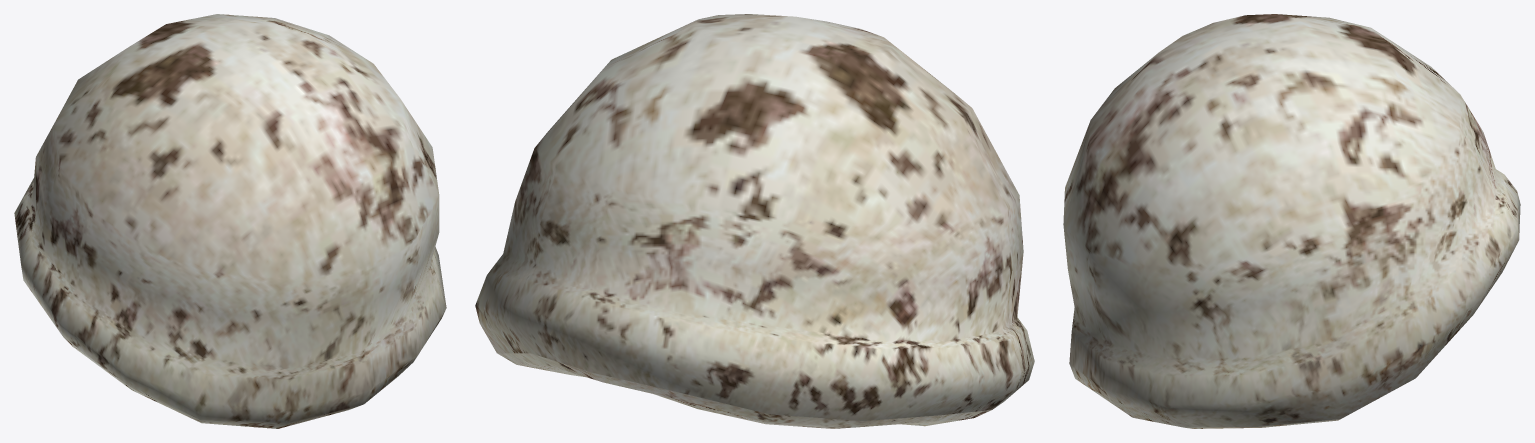
The model's file is whiteice.obj.
3 renders of one model, left to right at view 1: azimuth 30°, elevation 25°; view 2: azimuth 150°, elevation 25°; view 3: azimuth 270°, elevation 25°, orthographic. The views are drawn at different scales.
Parts seen in each view (by area): view 1: event_obj_kt3_chocolatesundae_root_000_ncl1_1.007; view 2: event_obj_kt3_chocolatesundae_root_000_ncl1_1.007; view 3: event_obj_kt3_chocolatesundae_root_000_ncl1_1.007.
Part boxes in pixels (left/top/right/bottom): event_obj_kt3_chocolatesundae_root_000_ncl1_1.007: left=14, top=14, right=446, bottom=428; event_obj_kt3_chocolatesundae_root_000_ncl1_1.007: left=475, top=14, right=1034, bottom=428; event_obj_kt3_chocolatesundae_root_000_ncl1_1.007: left=1063, top=14, right=1520, bottom=428.
Size of the model in its own units: 26.01 by 21.69 by 25.51.
